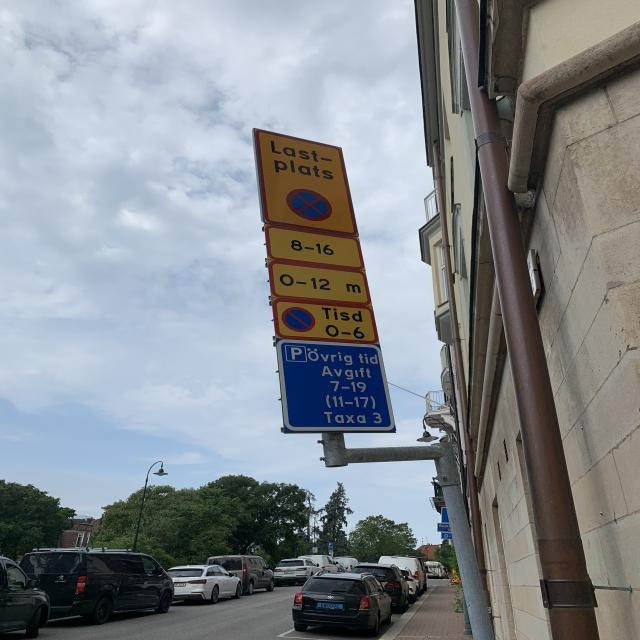lastplats: (250, 126, 362, 238)
